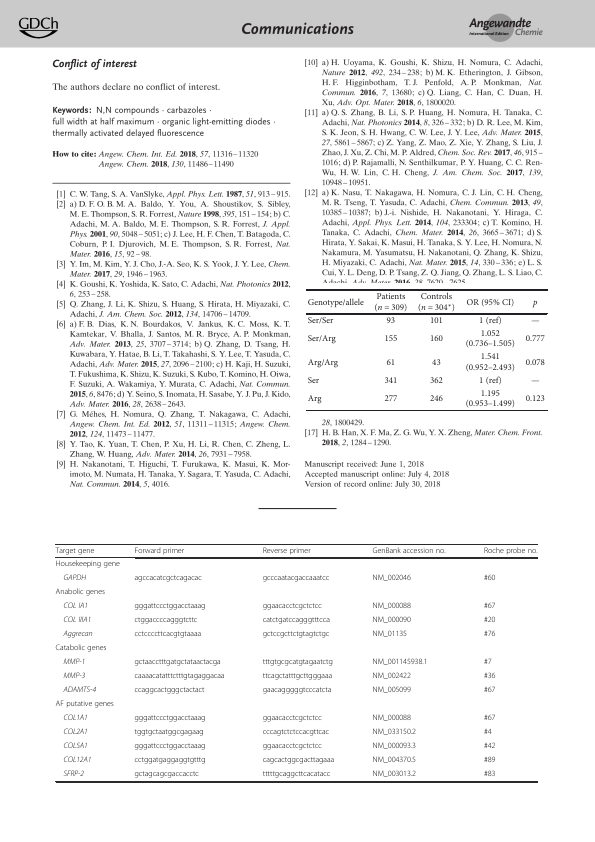borderless: (54, 542, 537, 781), (306, 288, 548, 411)
cell: (464, 329, 515, 350), (464, 352, 515, 373), (464, 389, 515, 410), (133, 671, 225, 681), (133, 657, 222, 667), (417, 292, 456, 313), (373, 292, 408, 313), (133, 601, 206, 611), (133, 713, 206, 723), (133, 741, 206, 751), (133, 755, 206, 765), (262, 755, 335, 765), (262, 657, 334, 667), (133, 685, 205, 695), (133, 727, 205, 737), (262, 671, 333, 681), (133, 573, 203, 583), (262, 685, 332, 695), (262, 615, 331, 625), (133, 629, 202, 639), (262, 769, 331, 779), (262, 573, 330, 583), (262, 629, 330, 639), (262, 727, 330, 737), (372, 546, 447, 555), (133, 769, 200, 779), (55, 559, 121, 569), (133, 615, 198, 625), (306, 297, 364, 308), (262, 601, 323, 611), (54, 699, 115, 709), (262, 713, 323, 723), (262, 741, 323, 751), (372, 657, 428, 667), (465, 297, 515, 308), (55, 643, 107, 653), (55, 587, 106, 597), (483, 546, 538, 555), (133, 546, 185, 555), (372, 727, 417, 737), (372, 741, 417, 751), (372, 755, 417, 765), (372, 769, 417, 779), (262, 546, 311, 555), (372, 573, 412, 583), (372, 601, 412, 611), (372, 615, 412, 625), (372, 671, 412, 681), (372, 685, 412, 695), (372, 713, 412, 723), (306, 357, 339, 368), (55, 546, 95, 555), (372, 629, 408, 639), (62, 685, 97, 694), (62, 629, 93, 639), (62, 615, 92, 625), (306, 334, 336, 344), (306, 316, 334, 326), (62, 601, 89, 611), (62, 755, 92, 764), (62, 573, 87, 583), (62, 713, 89, 722), (62, 727, 89, 736), (62, 741, 89, 750), (478, 316, 502, 326), (478, 376, 502, 386), (524, 357, 545, 368), (524, 394, 545, 405), (62, 657, 86, 666), (62, 671, 86, 680), (524, 334, 545, 344), (62, 769, 85, 778), (306, 394, 322, 405), (383, 394, 398, 405), (429, 394, 444, 405), (429, 316, 444, 326), (383, 334, 398, 344), (429, 334, 444, 344), (383, 376, 398, 386), (429, 376, 444, 386), (306, 376, 320, 386), (483, 573, 496, 583), (483, 601, 496, 611), (483, 615, 496, 625), (483, 629, 496, 639), (483, 671, 496, 681), (483, 685, 496, 695), (483, 713, 496, 723), (483, 741, 496, 751), (483, 755, 496, 765), (483, 769, 496, 779), (385, 357, 396, 368), (385, 316, 396, 326), (431, 357, 441, 368), (483, 657, 492, 667), (483, 727, 492, 737), (532, 299, 538, 308), (530, 320, 540, 324), (530, 380, 540, 384)
